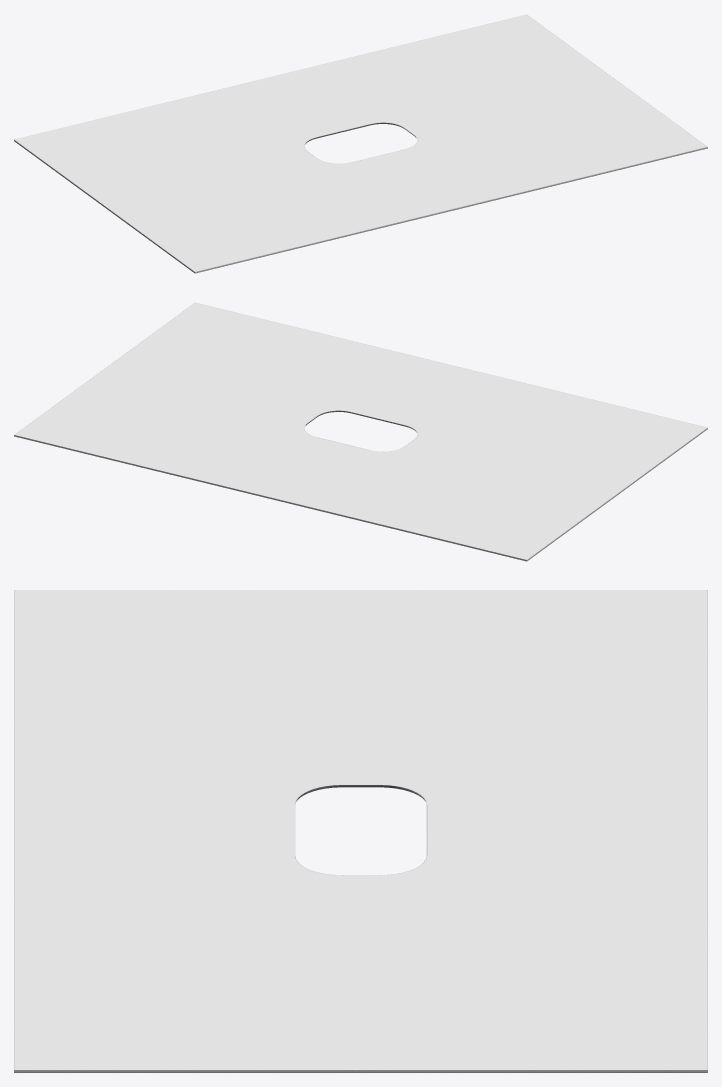
The picture shows the model from 3 angles, top to bottom: view 1: azimuth 30°, elevation 25°; view 2: azimuth 150°, elevation 25°; view 3: azimuth 270°, elevation 25°; orthographic projection. The views are drawn at different scales.
Visible parts, largest first — view 1: HORNEADO_suelo; view 2: HORNEADO_suelo; view 3: HORNEADO_suelo.
Part boxes in pixels (x1,y1,x2,y2): HORNEADO_suelo: (14,14,707,273); HORNEADO_suelo: (14,302,707,561); HORNEADO_suelo: (14,590,707,1072).
Size of what is drawn, in the model's own units: 36 by 0.1 by 22.
Materials: 1 (1 with a texture image).
